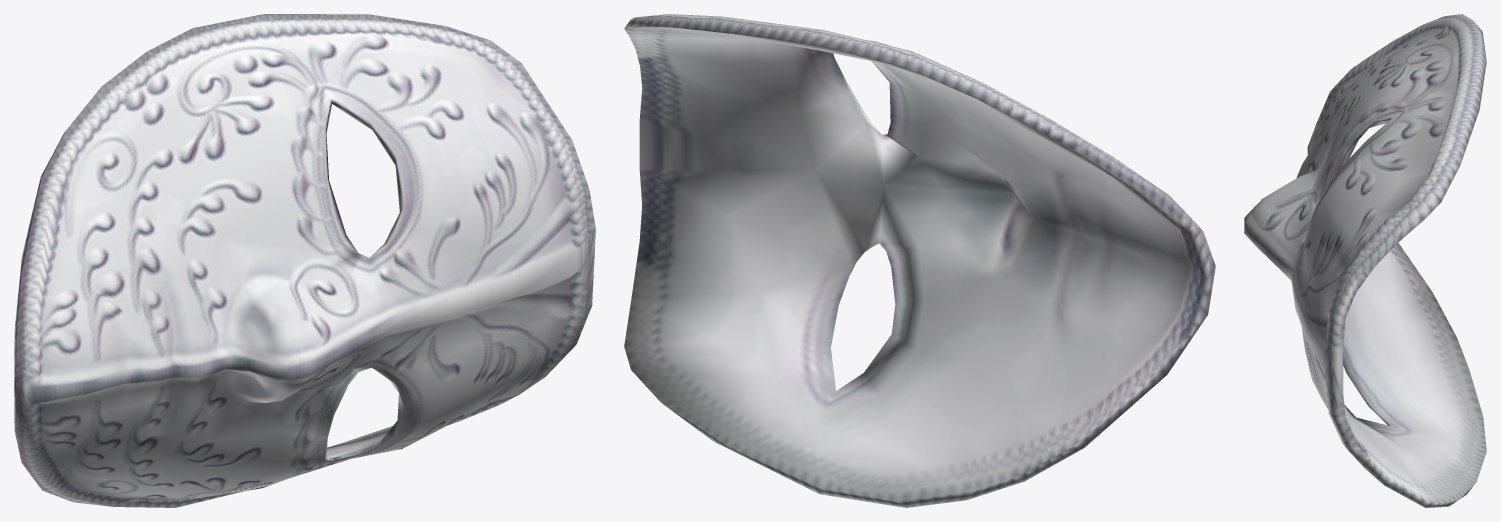
The model's file is F_PiousMask.fbx.
The picture shows the model from 3 angles, left to right: view 1: azimuth 30°, elevation 25°; view 2: azimuth 150°, elevation 25°; view 3: azimuth 270°, elevation 25°; orthographic projection. The views are drawn at different scales.
Parts seen in each view (by area): view 1: PiousMask; view 2: PiousMask; view 3: PiousMask.
Boxes of the visible parts, x1,y1,x2,y2 form: PiousMask: (14,14,595,507); PiousMask: (624,14,1215,507); PiousMask: (1244,14,1486,507).
Bounding box in the file's own units: 0.1213 × 0.094 × 0.051.
